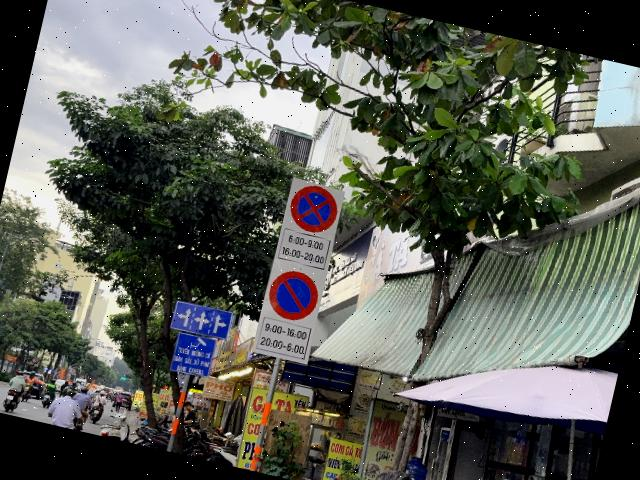cam-do-xe: (264, 266, 322, 325)
cam-dung-va-do-xe: (285, 180, 342, 236)
